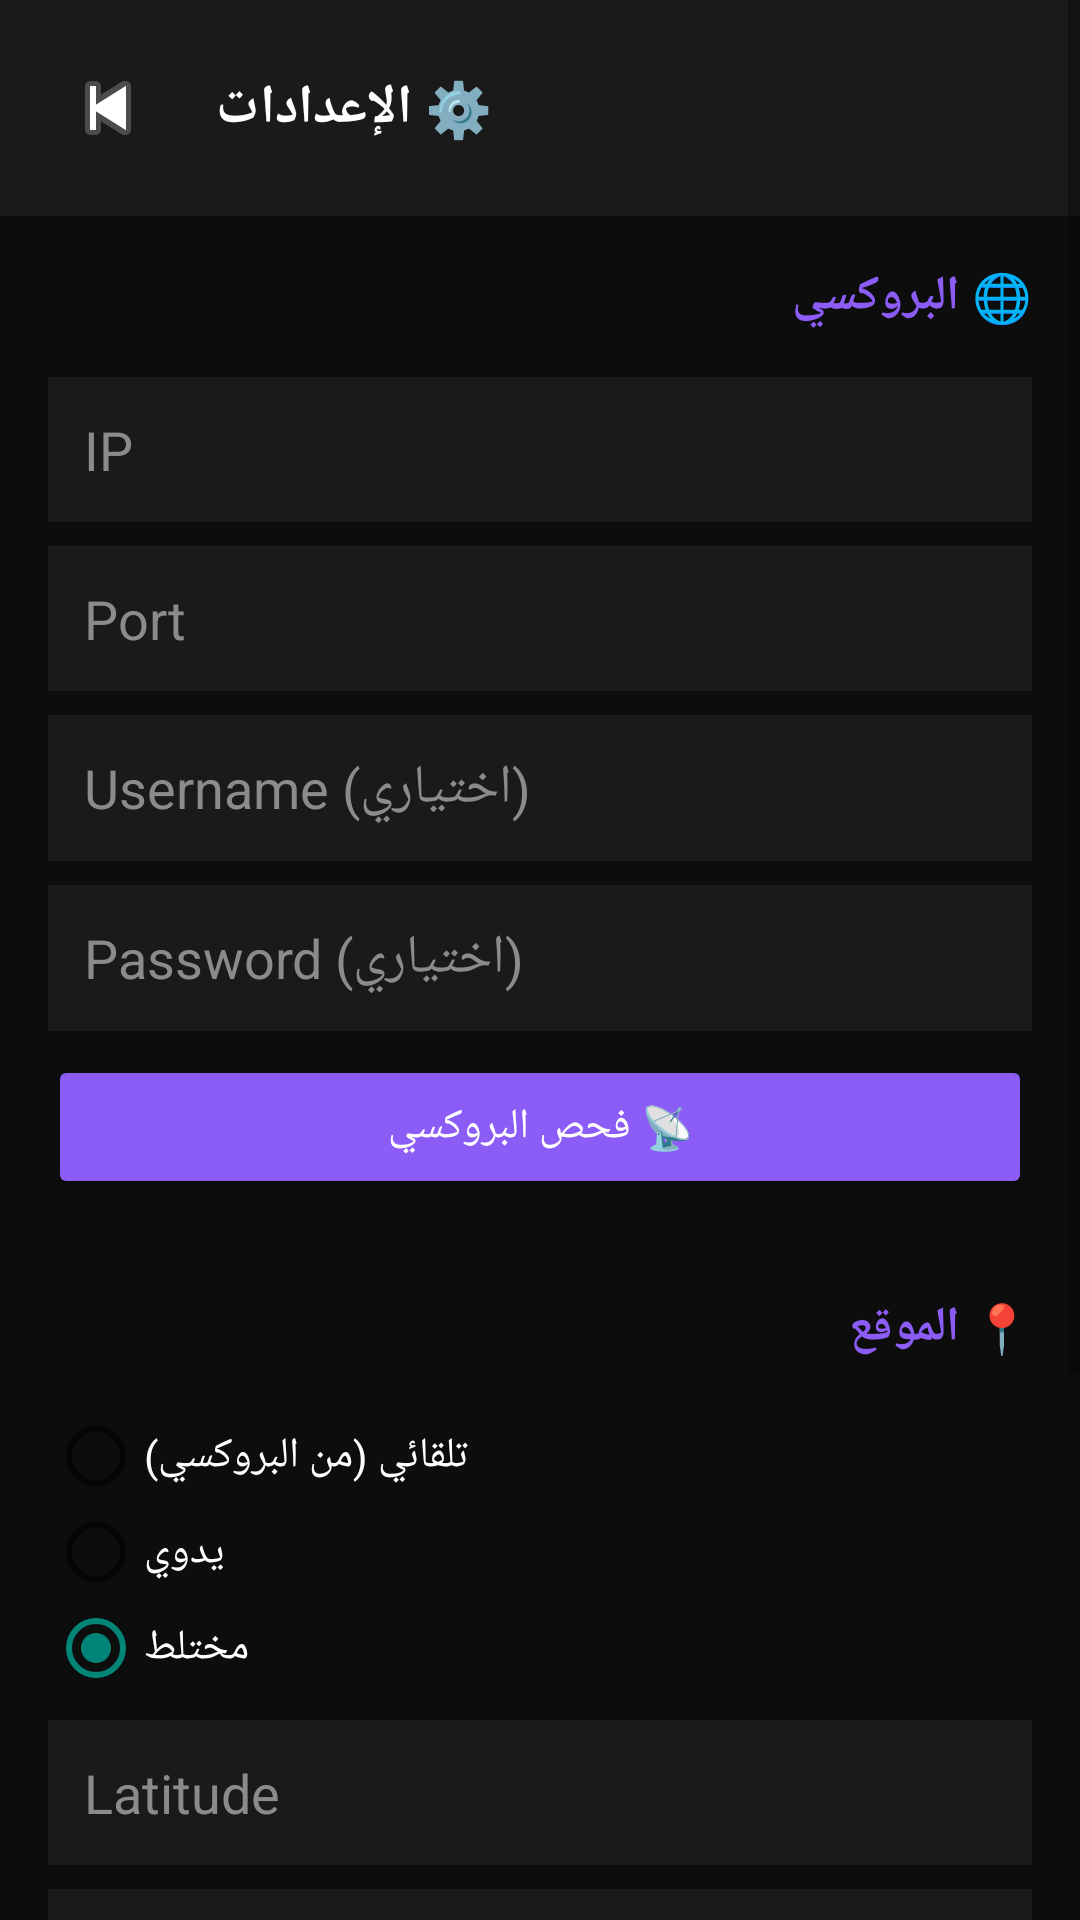

Screen size 1080 × 1920. Icon name, then its box in pixels as [x1, y1, x2, y2]:
رجوع: [85, 81, 131, 135]
